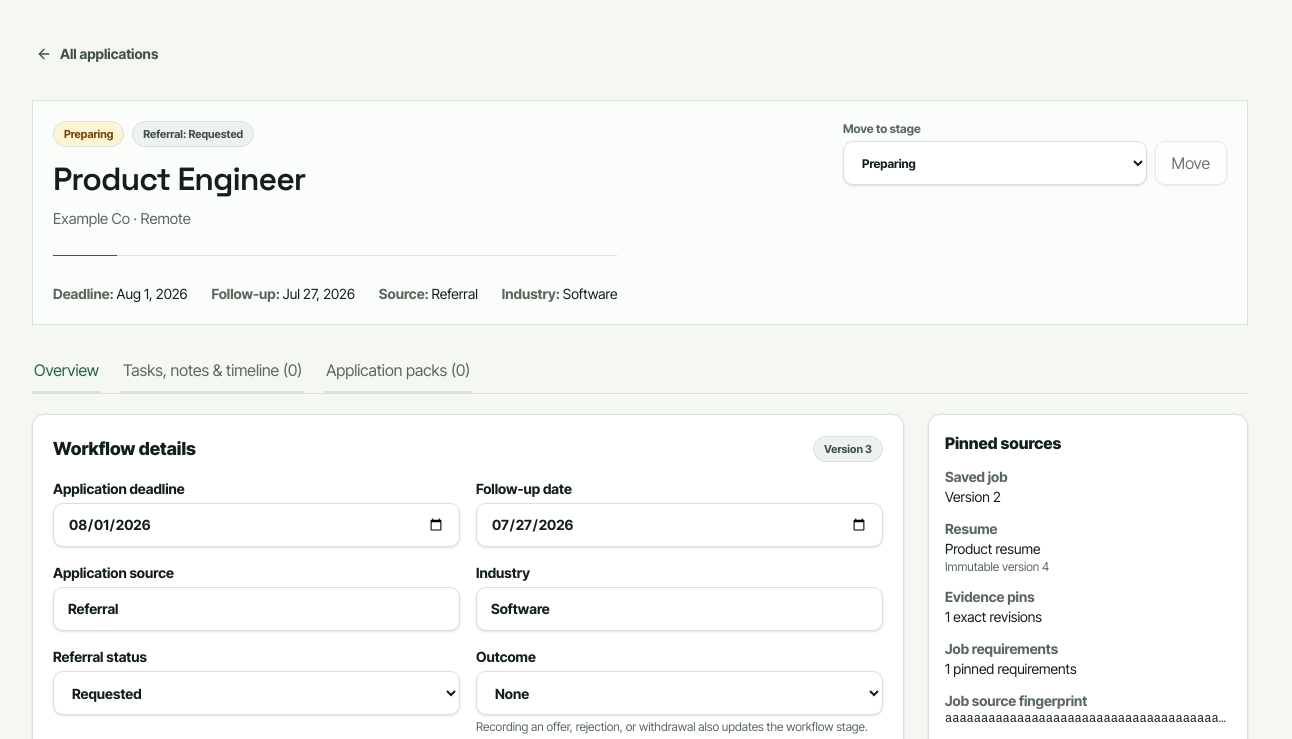
Application detail workflow › preserves unsaved overview fields across aggregate version updates
Check: the heading "Product Engineer" is shown, box [53,159,305,199]
Replace the text in the field labelled "Application source" with "Unsaved networking referral" at (256, 609), box [53,587,460,631]
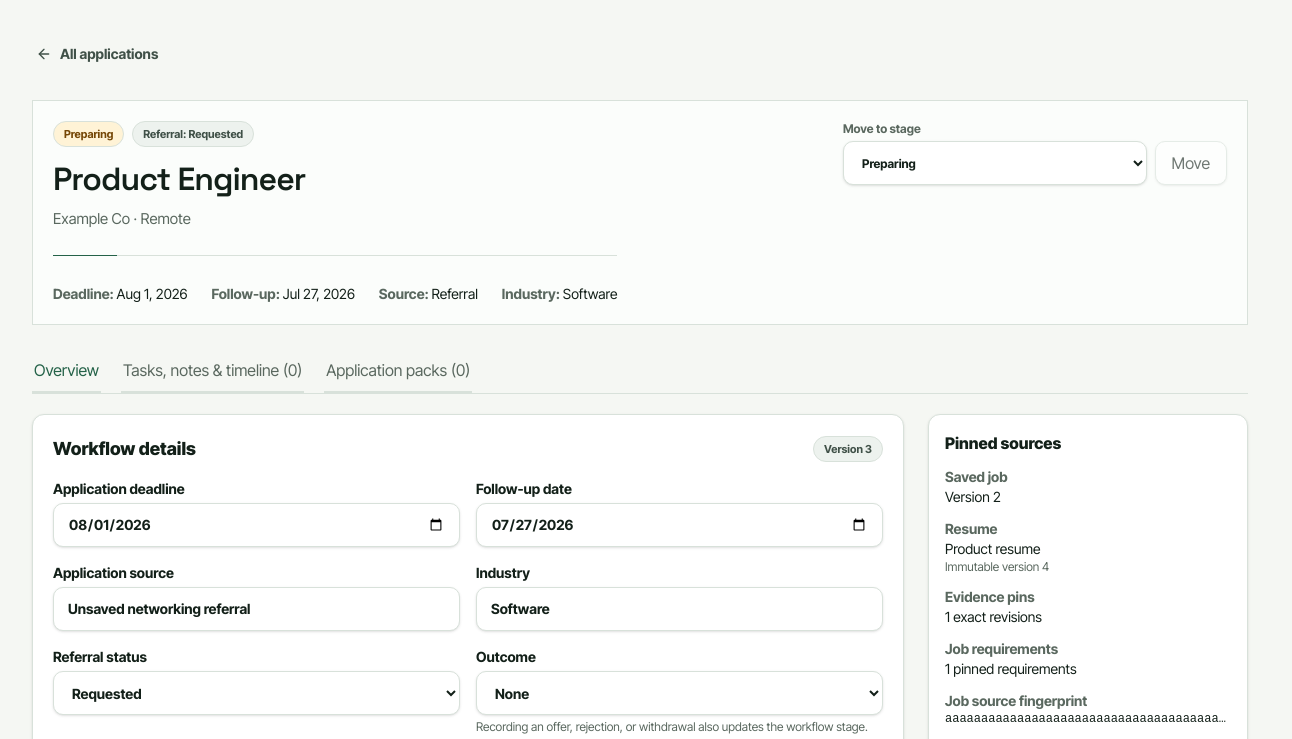
Select "Applied" in the dropdown labelled "Move to stage" at (995, 163), box [843,141,1147,185]
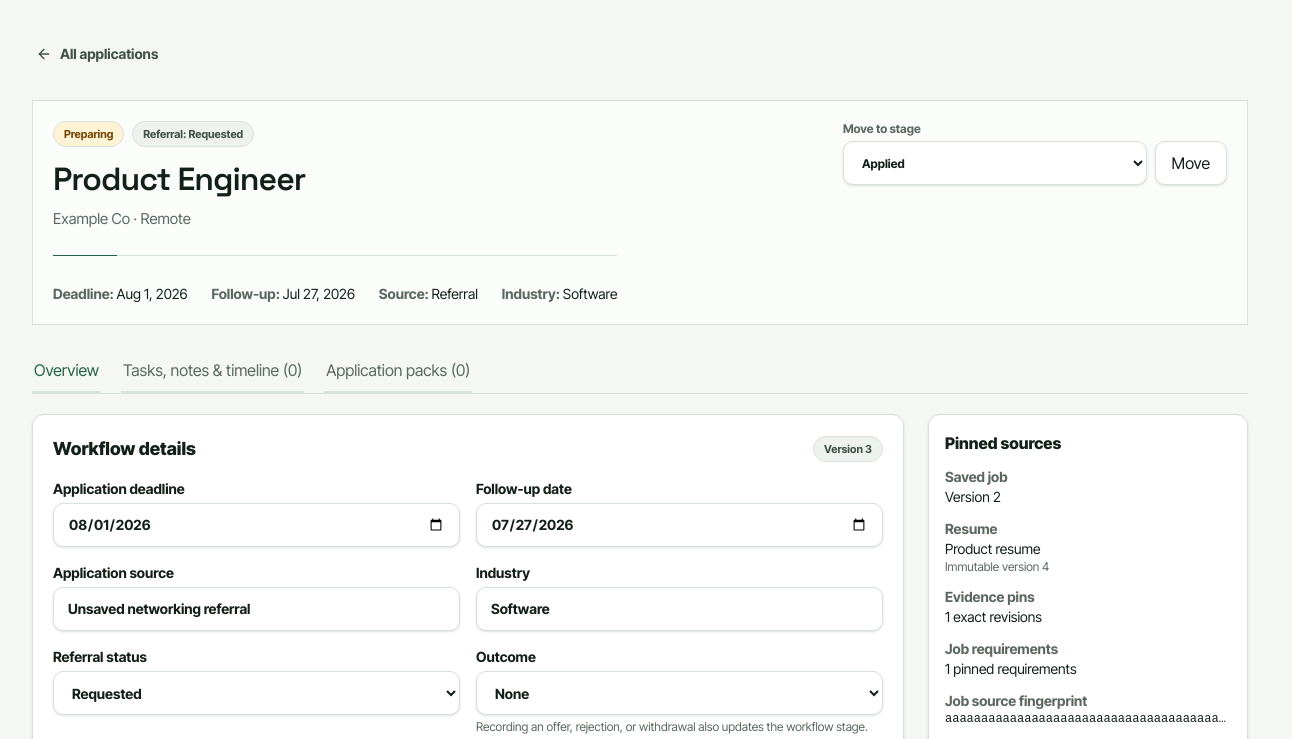
Click the button "Move" at (1191, 163), box [1155,141,1227,185]
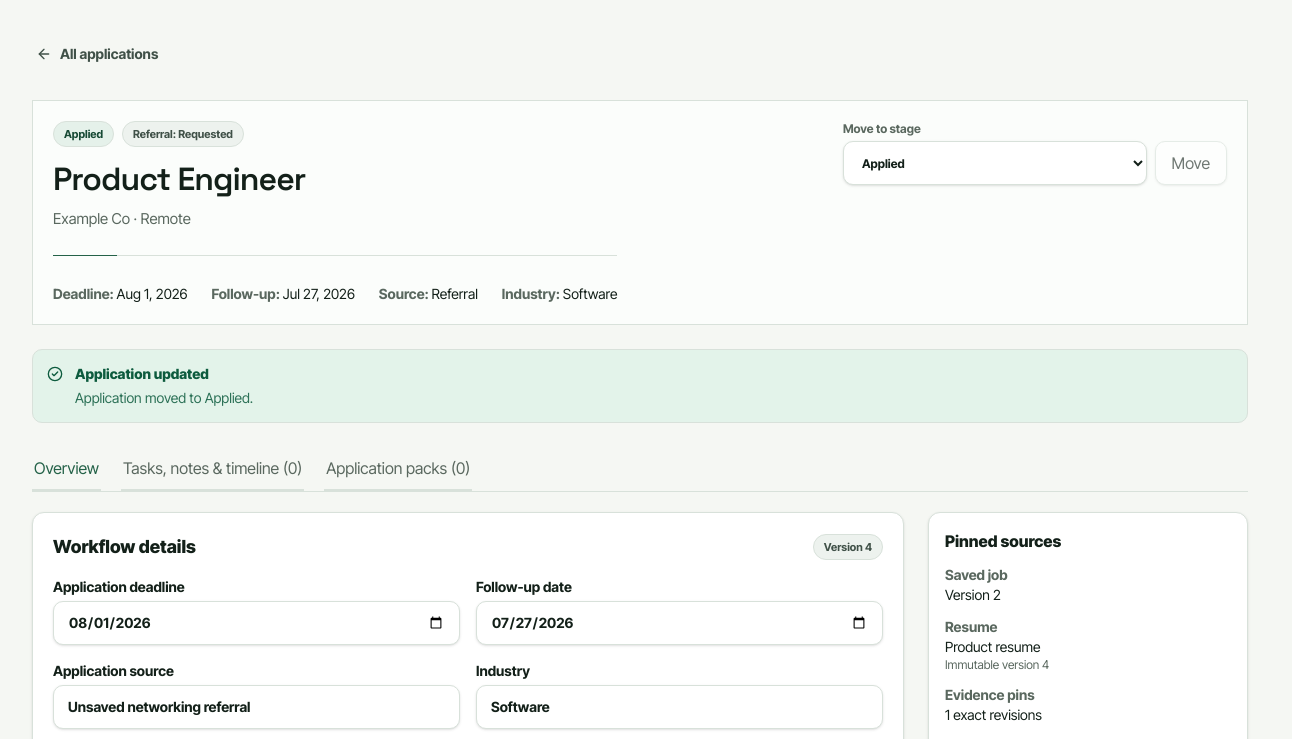
Check: the text "Application moved to Applied." is shown, box [75,388,253,408]
